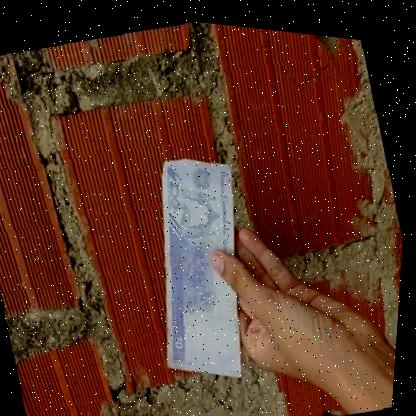vef_back: (118, 137, 285, 392)
